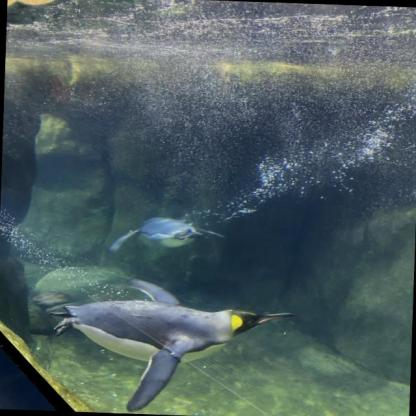penguin: (43, 276, 300, 416), (109, 215, 224, 260)
